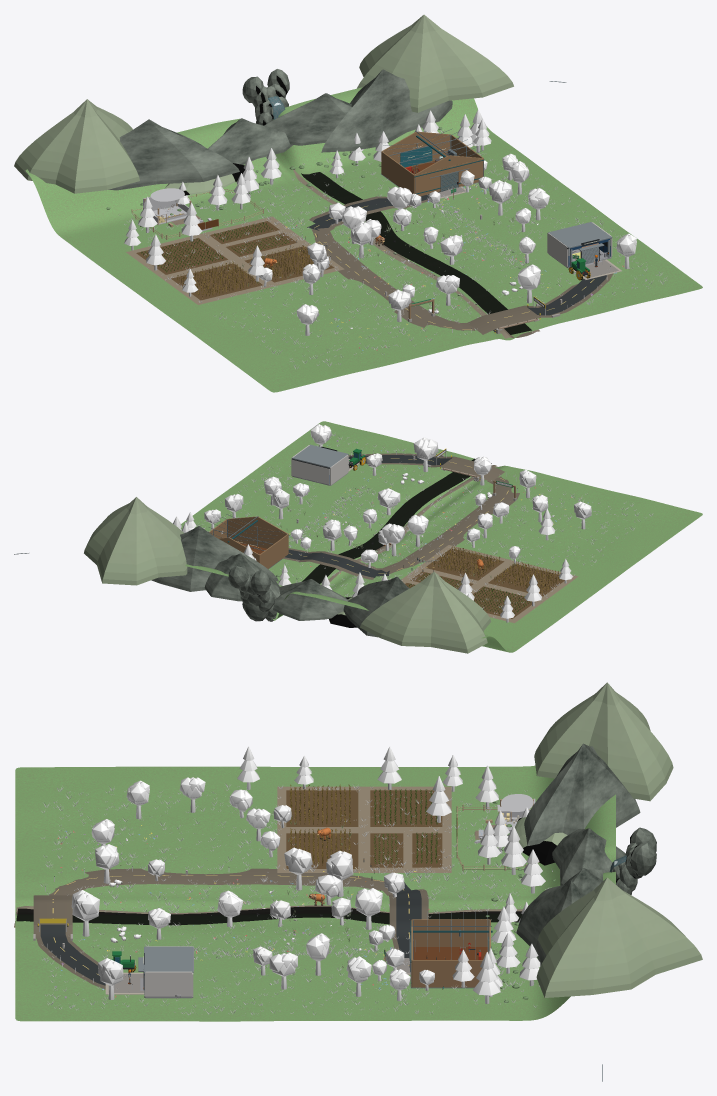
File: farm-world-textured.glb
3 renders of one model, top to bottom at view 1: azimuth 30°, elevation 25°; view 2: azimuth 150°, elevation 25°; view 3: azimuth 270°, elevation 25°, orthographic. The views are drawn at different scales.
Visible parts, largest first — view 1: FARM_TERRAIN_BASE, MOUNTAIN_06, MOUNTAIN_01, MOUNTAIN_07, MOUNTAIN_02, CROP_FIELD_MAIN, RIVER_WATER, MOUNTAIN_05, RNM_Road_Bridge_To_Farm_GravelSubbase, MOUNTAIN_04, CROP_PLOT_01, CROP_PLOT_03 (+12 smaller); view 2: FARM_TERRAIN_BASE, MOUNTAIN_01, MOUNTAIN_06, MOUNTAIN_07, MOUNTAIN_04, RNM_Road_Bridge_To_Farm_GravelSubbase, CROP_FIELD_MAIN, RIVER_WATER, MOUNTAIN_02, MOUNTAIN_05, CROP_PLOT_02, CROP_PLOT_01 (+17 smaller); view 3: FARM_TERRAIN_BASE, MOUNTAIN_06, MOUNTAIN_01, MOUNTAIN_02, CROP_FIELD_MAIN, RNM_Road_Bridge_To_Farm_GravelSubbase, RIVER_WATER, CROP_PLOT_01, CROP_PLOT_03, MOUNTAIN_04, MOUNTAIN_07, WH_WALL_LEFT (+23 smaller).
Boxes of the visible parts, <box> form: FARM_TERRAIN_BASE: <box>25,87,702,392</box>; MOUNTAIN_06: <box>357,14,513,112</box>; MOUNTAIN_01: <box>14,99,139,193</box>; MOUNTAIN_07: <box>321,69,452,152</box>; MOUNTAIN_02: <box>108,119,239,190</box>; CROP_FIELD_MAIN: <box>126,216,344,304</box>; RIVER_WATER: <box>301,172,531,334</box>; MOUNTAIN_05: <box>264,93,351,145</box>; RNM_Road_Bridge_To_Farm_GravelSubbase: <box>311,228,474,330</box>; MOUNTAIN_04: <box>208,118,292,164</box>; CROP_PLOT_01: <box>171,263,262,300</box>; CROP_PLOT_03: <box>136,238,227,274</box>; FARM_TERRAIN_BASE: <box>181,421,702,652</box>; MOUNTAIN_01: <box>360,571,491,653</box>; MOUNTAIN_06: <box>84,497,187,585</box>; MOUNTAIN_07: <box>151,526,278,591</box>; MOUNTAIN_04: <box>273,579,348,620</box>; RNM_Road_Bridge_To_Farm_GravelSubbase: <box>380,476,519,573</box>; CROP_FIELD_MAIN: <box>401,545,578,623</box>; RIVER_WATER: <box>302,458,491,583</box>; MOUNTAIN_02: <box>343,576,409,637</box>; MOUNTAIN_05: <box>204,553,280,601</box>; CROP_PLOT_02: <box>425,548,504,580</box>; CROP_PLOT_01: <box>488,564,564,596</box>; FARM_TERRAIN_BASE: <box>15,765,615,1021</box>; MOUNTAIN_06: <box>536,877,702,997</box>; MOUNTAIN_01: <box>534,682,673,801</box>; MOUNTAIN_02: <box>524,743,640,845</box>; CROP_FIELD_MAIN: <box>277,786,451,872</box>; RNM_Road_Bridge_To_Farm_GravelSubbase: <box>49,868,388,895</box>; RIVER_WATER: <box>16,906,522,925</box>; CROP_PLOT_01: <box>286,790,358,826</box>; CROP_PLOT_03: <box>370,790,442,826</box>; MOUNTAIN_04: <box>552,828,625,885</box>; MOUNTAIN_07: <box>516,881,585,965</box>; WH_WALL_LEFT: <box>412,919,489,946</box>.
Size of the model in its own units: 124 by 23.73 by 115.
163 materials, 11 textured.
